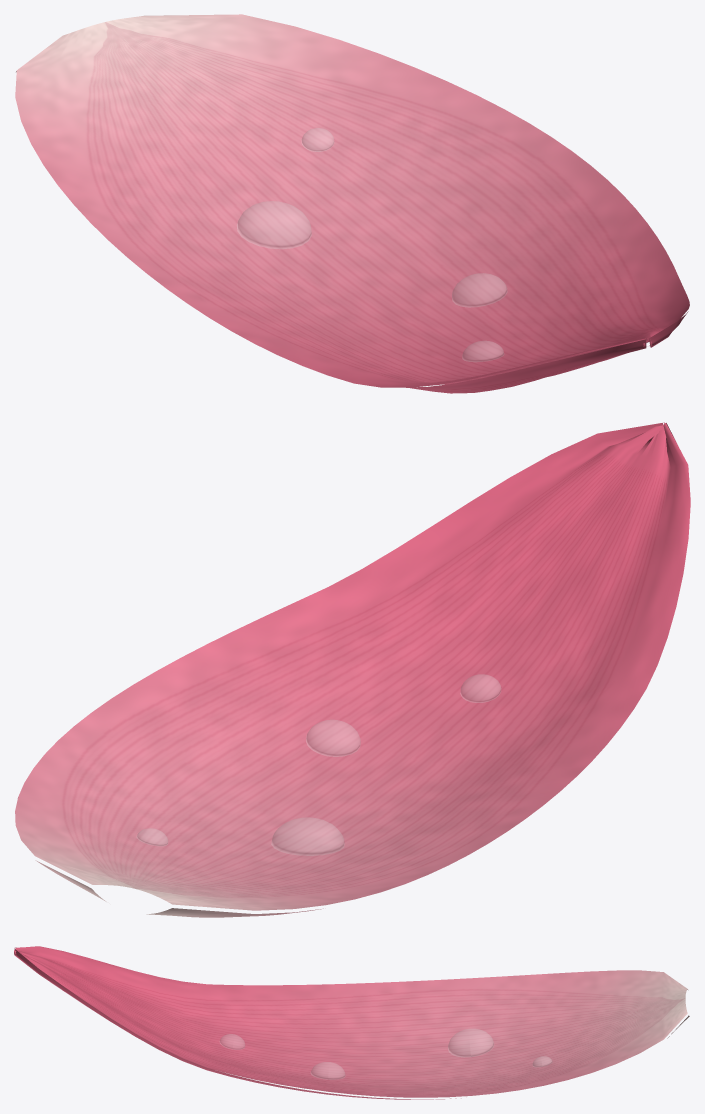
Rendered from lotus-petal.glb.
3 views of the same model, one above another, from view 1: azimuth 30°, elevation 25°; view 2: azimuth 150°, elevation 25°; view 3: azimuth 270°, elevation 25° (orthographic). The views are drawn at different scales.
Parts seen in each view (by area): view 1: Petal, DewDrops; view 2: Petal, DewDrops; view 3: Petal, DewDrops.
Boxes of the visible parts, bbox=[...] form: Petal: bbox=[15, 14, 689, 393]; DewDrops: bbox=[237, 128, 507, 361]; Petal: bbox=[15, 422, 690, 917]; DewDrops: bbox=[137, 674, 501, 855]; Petal: bbox=[14, 946, 689, 1099]; DewDrops: bbox=[220, 1029, 552, 1079].
Bounding box in the file's own units: 0.0417 × 0.0173 × 0.0925.
Materials: 2 (1 with a texture image).
